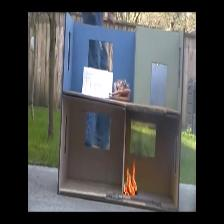fire: (125, 159, 141, 199)
